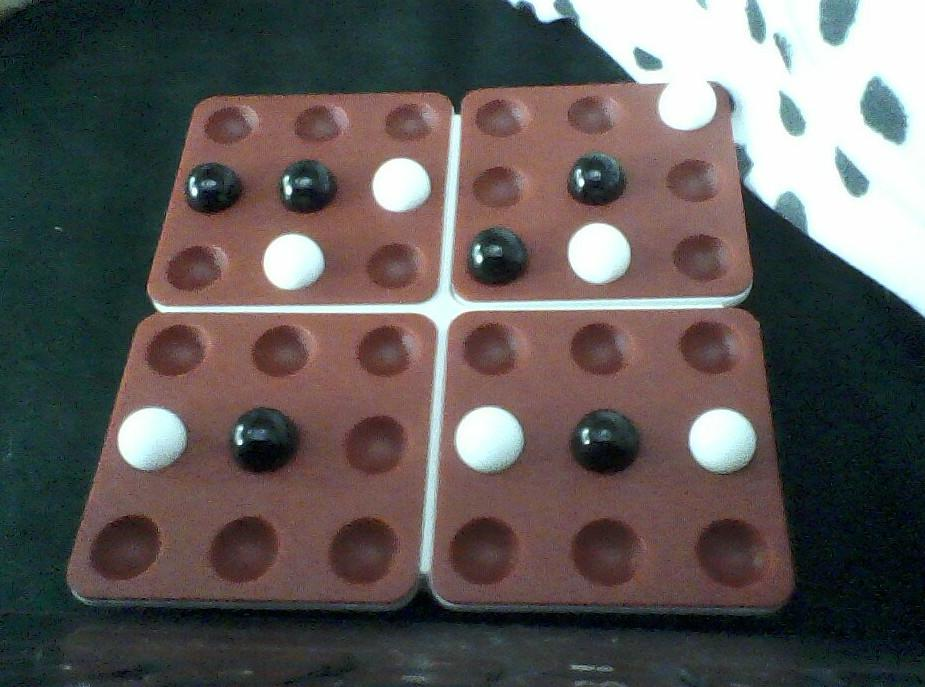pentago: (54, 73, 795, 625)
